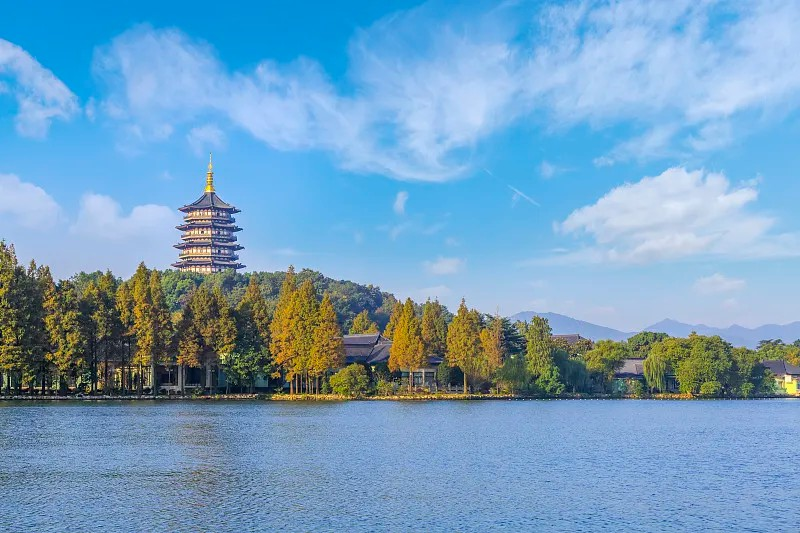Leifeng: (169, 154, 246, 278)
